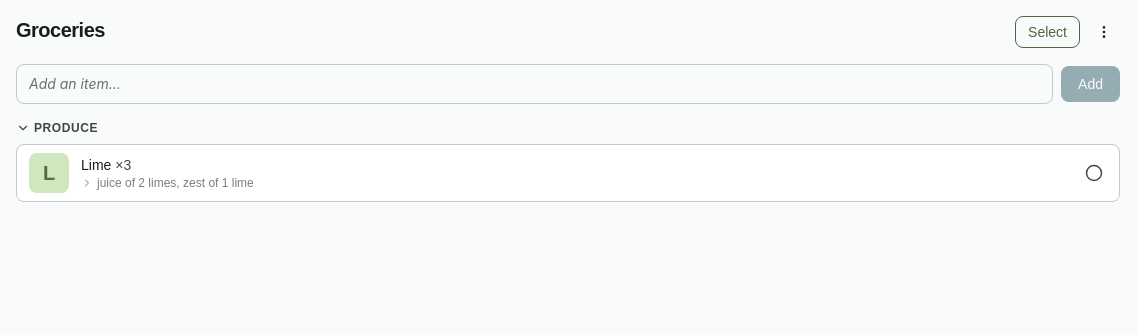
Test: ShoppingListPage — expanded breakdown under a combined product-form row › leads each child with its own recipe wording, not the parent name
What coordinates should you click on to do the following:
click the button with test id "shopping-combined-toggle"
I would click on:
 (98, 165)
Its box is [81,155,1069,191].
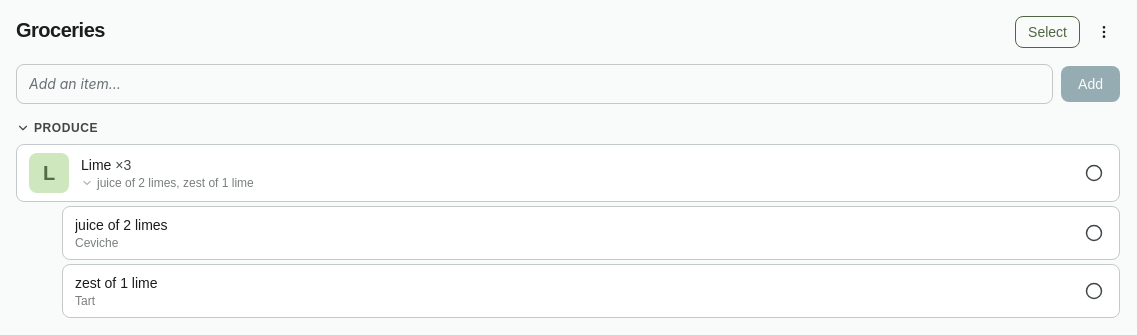
Result: the element with test id "shopping-item-row" shows "juice of 2 limes" at [75,215,1069,251]
Result: the element with test id "shopping-item-row" shows "Ceviche" at [75,215,1069,251]
Result: the element with test id "shopping-item-row" shows "zest of 1 lime" at [75,273,1069,309]
